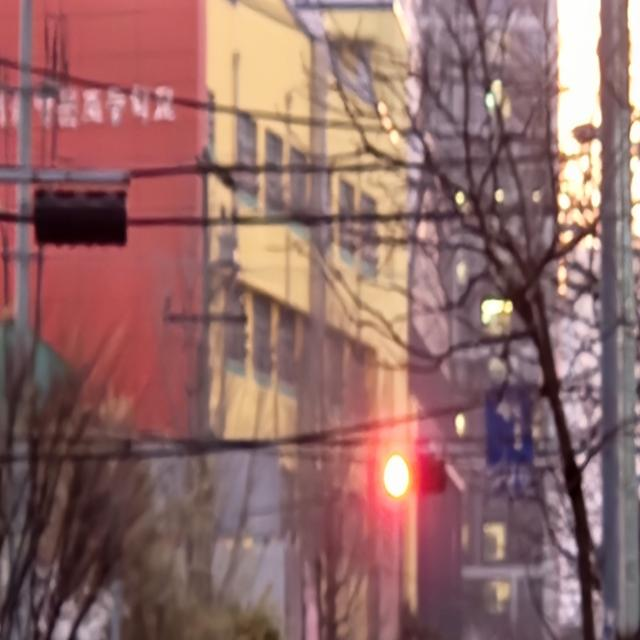Red Light: (382, 451, 415, 497)
